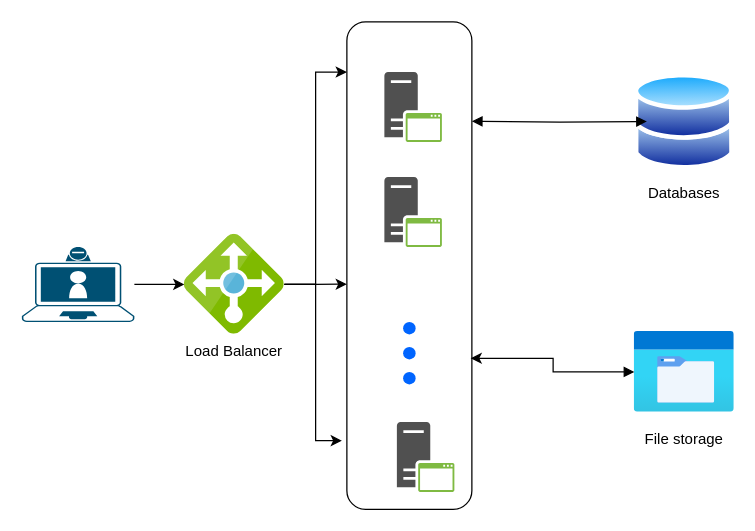
Image size: 755x531. Some labels were removed from this diagram. The box of each missing label's shape, as (x1, y1, x2, y2) in pixels:
Application Servers: (346, 21, 472, 509)
Client: (21, 246, 134, 321)
